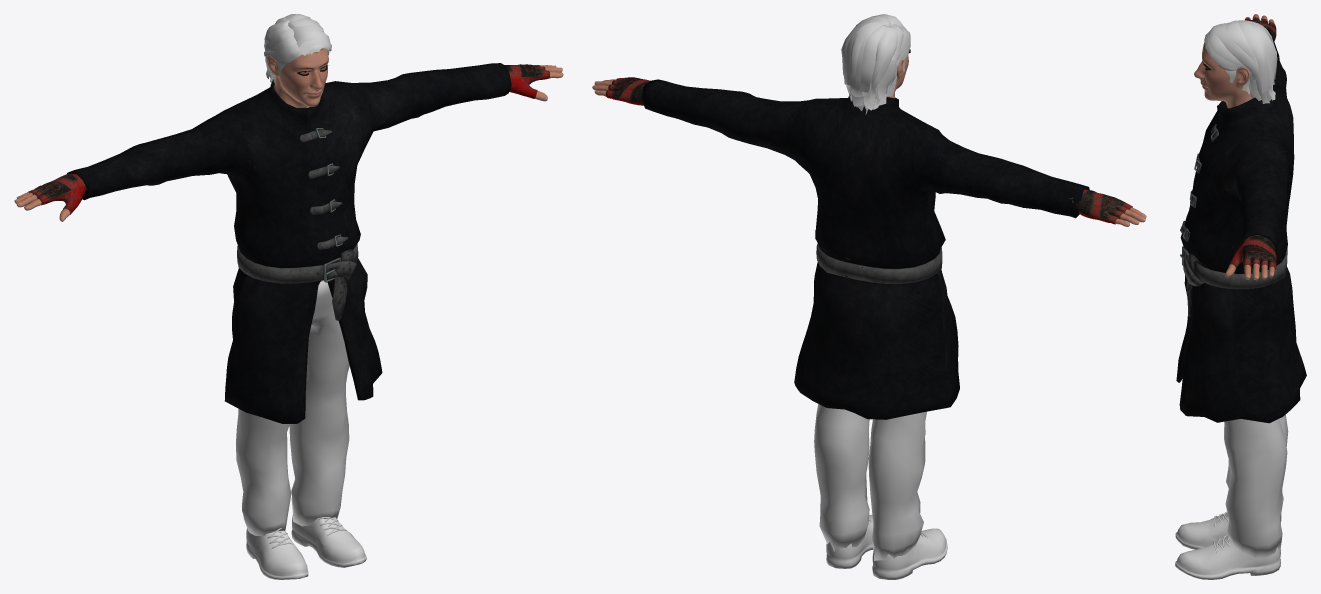
The model's file is Player.obj.
The picture shows the model from 3 angles, left to right: view 1: azimuth 30°, elevation 25°; view 2: azimuth 150°, elevation 25°; view 3: azimuth 270°, elevation 25°; orthographic projection.
Visible parts, largest first — view 1: Tops, Bottoms, Shoes, Body, Hair, Gloves; view 2: Tops, Bottoms, Hair, Shoes, Gloves, Body; view 3: Tops, Bottoms, Shoes, Hair, Body, Gloves.
Part boxes in pixels (x1=…): Tops: x1=67, y1=63, x2=511, y2=423; Bottoms: x1=236, y1=280, x2=349, y2=535; Shoes: x1=246, y1=514, x2=366, y2=579; Body: x1=14, y1=48, x2=563, y2=281; Hair: x1=264, y1=14, x2=331, y2=85; Gloves: x1=28, y1=64, x2=549, y2=214; Tops: x1=642, y1=79, x2=1089, y2=419; Bottoms: x1=814, y1=404, x2=926, y2=560; Hair: x1=841, y1=14, x2=910, y2=114; Shoes: x1=826, y1=514, x2=947, y2=579; Gloves: x1=605, y1=77, x2=1132, y2=224; Body: x1=592, y1=52, x2=1146, y2=226; Tops: x1=1176, y1=29, x2=1306, y2=423; Bottoms: x1=1224, y1=415, x2=1288, y2=559; Shoes: x1=1175, y1=511, x2=1280, y2=579; Hair: x1=1204, y1=20, x2=1277, y2=103; Body: x1=1194, y1=14, x2=1274, y2=280; Gloves: x1=1228, y1=17, x2=1276, y2=269.
Size of the model in its own units: 194 by 182 by 40.66.
